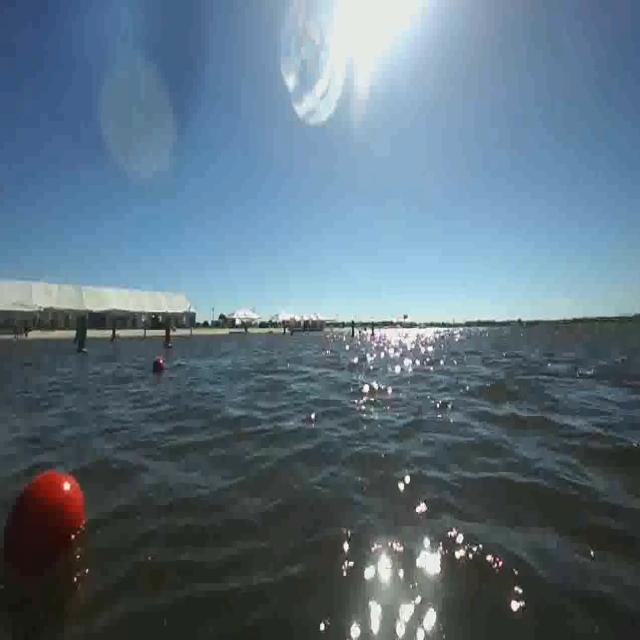green-column-buoy: (74, 317, 90, 358)
red-buoy: (4, 470, 84, 568), (154, 354, 167, 372)
red-column-buoy: (162, 324, 172, 351)
